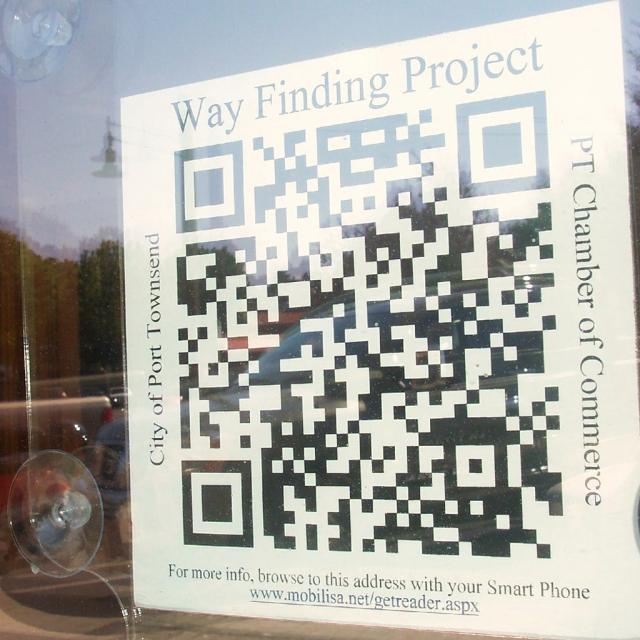qrcode: (175, 91, 565, 559)
